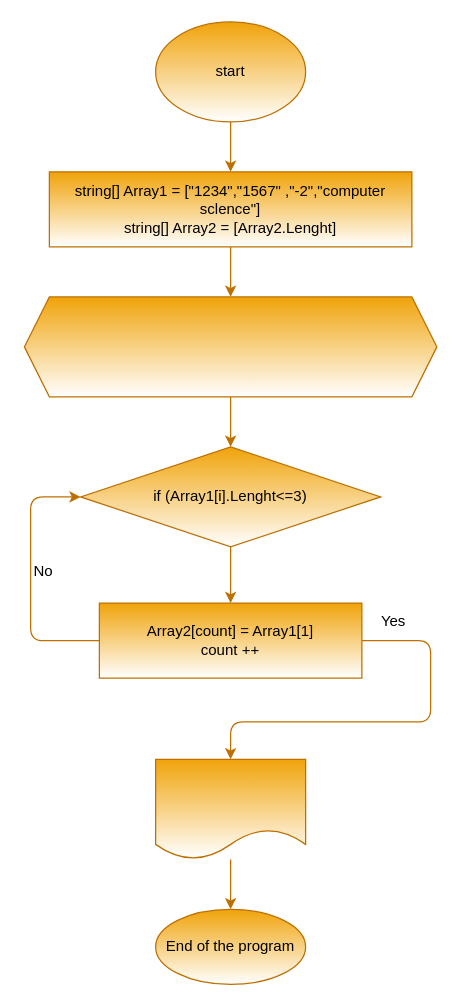
This 463x1006 diagram has some shape labels left out. Here are the shapes that lost their labels. From the top down, the centre of each, then its label:
At [230,346]: "for (int = 0;i<Array1.Length;i++)".
At [230,808]: "Print Array2".
